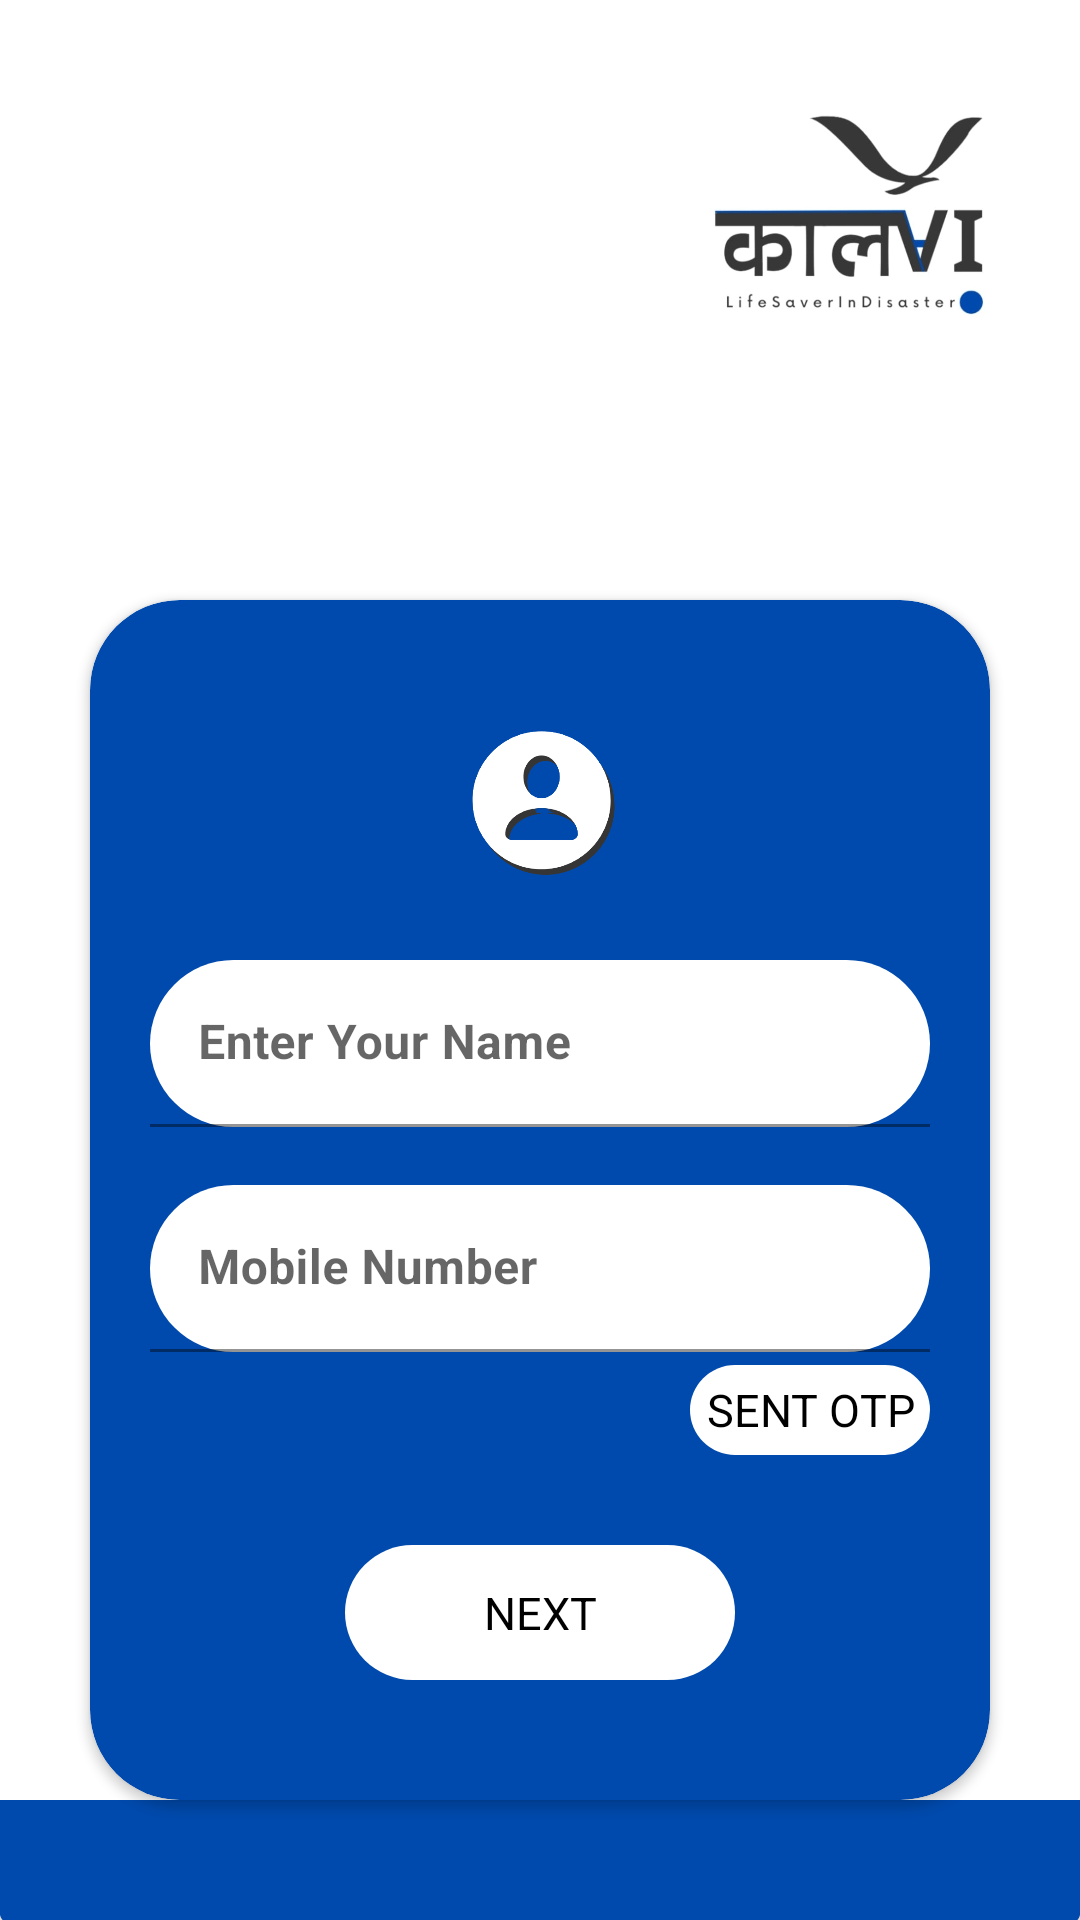

Screen size 1080*1920. Icon name, then its center in pixels as (x=x, y=y):
kaalvi user: (x=543, y=803)
